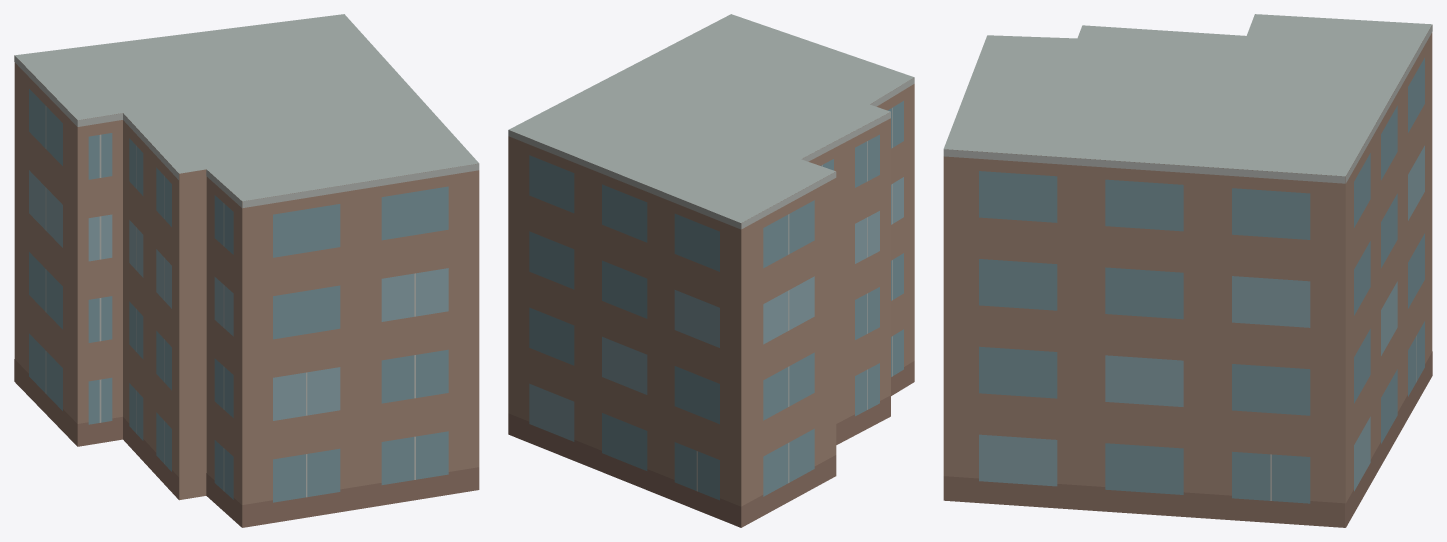
File: survey-upis-32801114.glb
The picture shows the model from 3 angles, left to right: view 1: azimuth 30°, elevation 25°; view 2: azimuth 150°, elevation 25°; view 3: azimuth 270°, elevation 25°; orthographic projection. The views are drawn at different scales.
Visible parts, largest first — view 1: survey-upis-32801114.tmp; view 2: survey-upis-32801114.tmp; view 3: survey-upis-32801114.tmp.
Part boxes in pixels (x1,y1,x2,y2): survey-upis-32801114.tmp: [14, 14, 479, 527]; survey-upis-32801114.tmp: [508, 14, 914, 527]; survey-upis-32801114.tmp: [943, 14, 1432, 527].
Bounding box in the file's own units: 11.6 × 11.7 × 14.76.
